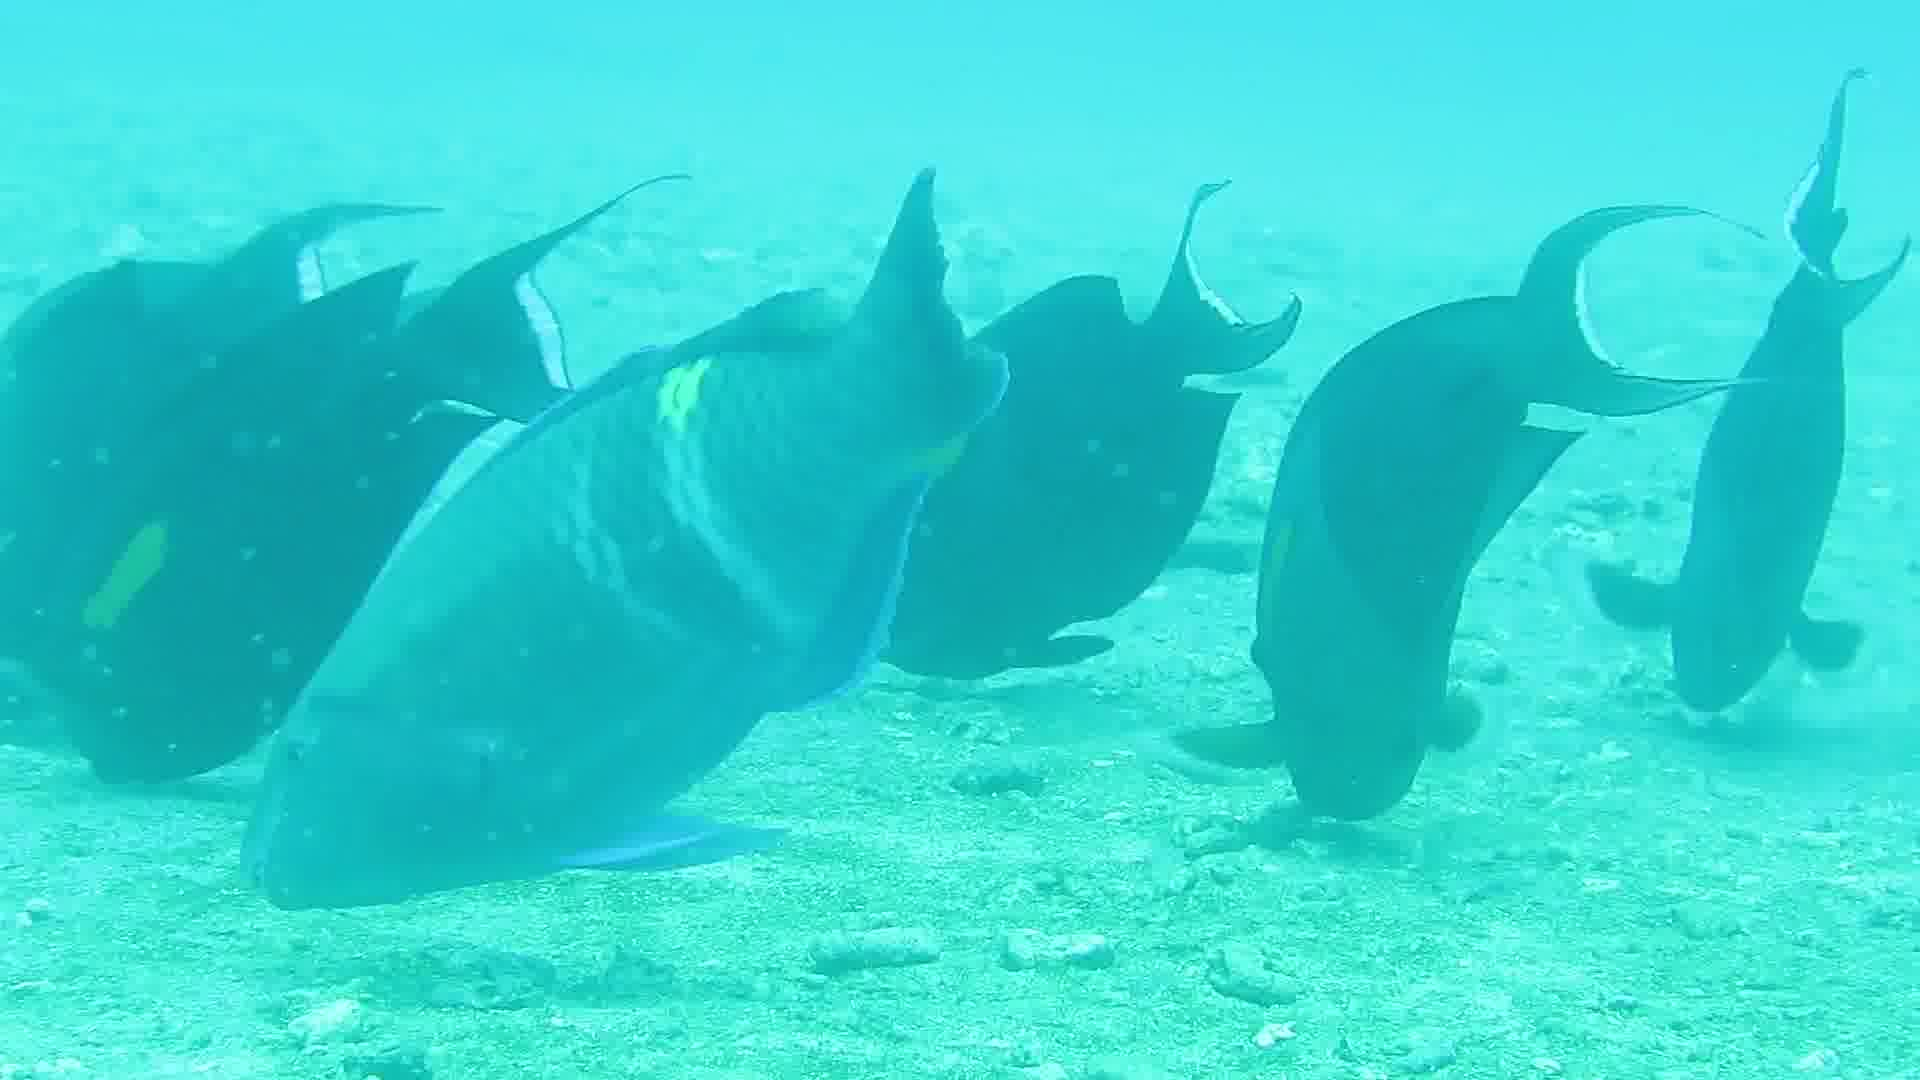Acanthurus olivaceus: (219, 326, 997, 909), (1, 182, 465, 802), (1240, 208, 1640, 865), (1520, 156, 1920, 812), (874, 121, 1274, 777)
